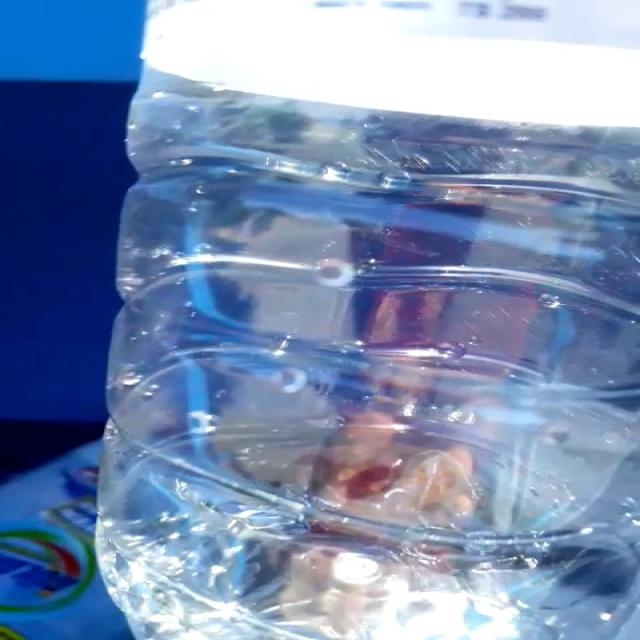plastic: (97, 0, 640, 640)
